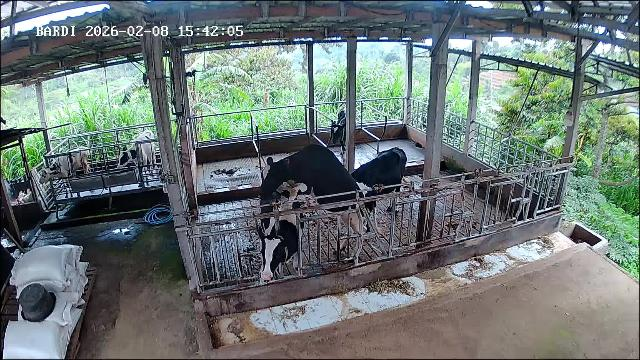mounting: (259, 144, 365, 257)
